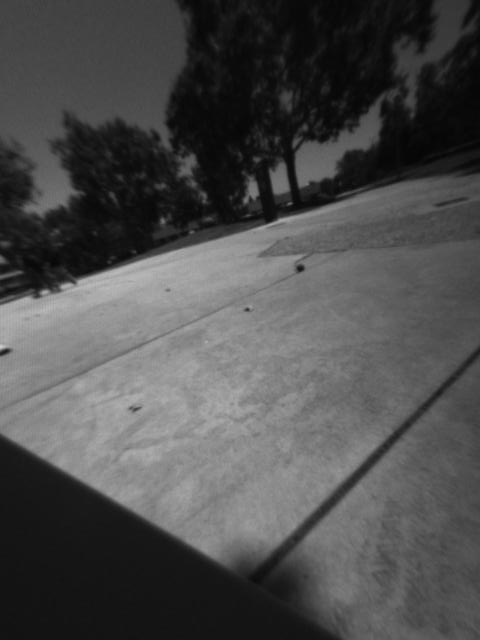dogtoy: (287, 259, 316, 280)
